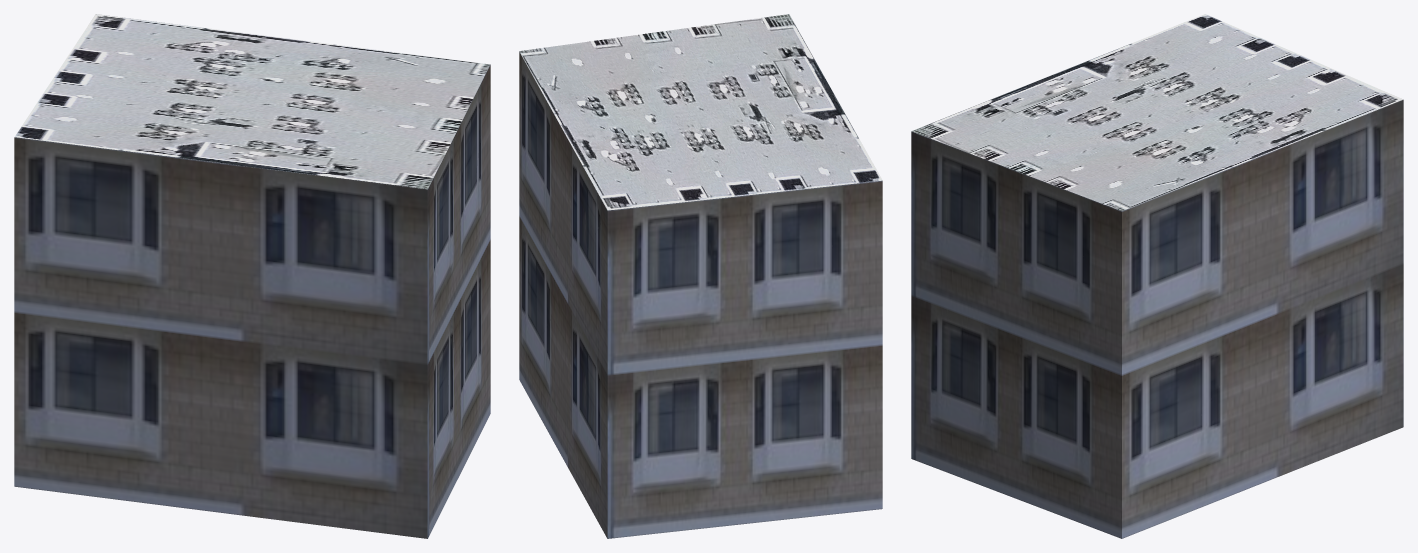
Rendered from ResTex__1269.fbx.
3 renders of one model, left to right at view 1: azimuth 30°, elevation 25°; view 2: azimuth 150°, elevation 25°; view 3: azimuth 270°, elevation 25°, orthographic. The views are drawn at different scales.
Parts seen in each view (by area): view 1: CityEngineMaterial_3_m, CityEngineMaterial_8_m; view 2: CityEngineMaterial_3_m, CityEngineMaterial_8_m; view 3: CityEngineMaterial_3_m, CityEngineMaterial_8_m.
Part boxes in pixels (x1=…): CityEngineMaterial_3_m: x1=14, y1=64, x2=490, y2=538; CityEngineMaterial_8_m: x1=14, y1=14, x2=490, y2=189; CityEngineMaterial_3_m: x1=519, y1=52, x2=882, y2=538; CityEngineMaterial_8_m: x1=519, y1=14, x2=882, y2=210; CityEngineMaterial_3_m: x1=911, y1=100, x2=1403, y2=538; CityEngineMaterial_8_m: x1=911, y1=14, x2=1403, y2=211.
Bounding box in the file's own units: 7.75 × 6 × 8.18.
2 materials, 2 textured.
